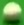white: (0, 0, 24, 25)
